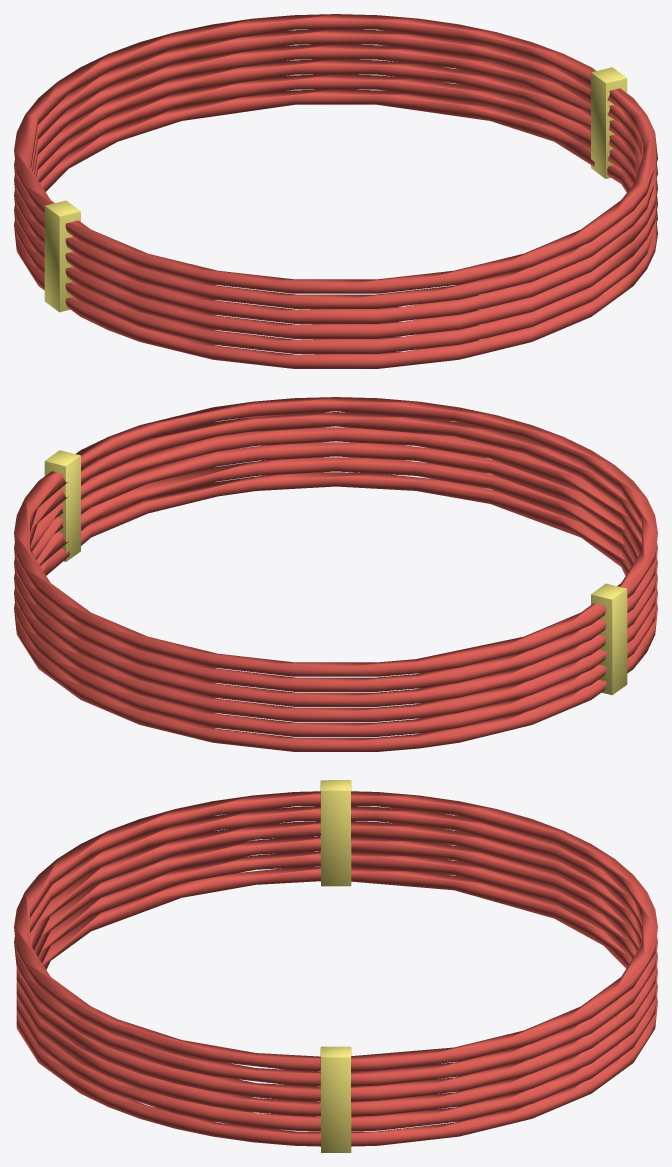
File: HID-AGF-007_lod1.glb
3 views of the same model, one above another, from view 1: azimuth 30°, elevation 25°; view 2: azimuth 150°, elevation 25°; view 3: azimuth 270°, elevation 25° (orthographic).
Visible parts, largest first — view 1: HID-AGF-007_volta5, HID-AGF-007_volta4, HID-AGF-007_volta1, HID-AGF-007_volta2, HID-AGF-007_volta3, HID-AGF-007_volta0, HID-AGF-007_cinta3.141592653589793, HID-AGF-007_cinta0; view 2: HID-AGF-007_volta5, HID-AGF-007_volta4, HID-AGF-007_volta3, HID-AGF-007_volta2, HID-AGF-007_volta1, HID-AGF-007_volta0, HID-AGF-007_cinta3.141592653589793, HID-AGF-007_cinta0; view 3: HID-AGF-007_volta5, HID-AGF-007_volta3, HID-AGF-007_volta4, HID-AGF-007_volta2, HID-AGF-007_volta1, HID-AGF-007_volta0, HID-AGF-007_cinta0, HID-AGF-007_cinta3.141592653589793.
Boxes of the visible parts, box(x1,y1,x2,y2) form: HID-AGF-007_volta5: box(14, 14, 657, 293); HID-AGF-007_volta4: box(14, 29, 657, 308); HID-AGF-007_volta1: box(14, 74, 657, 353); HID-AGF-007_volta2: box(14, 59, 657, 338); HID-AGF-007_volta3: box(14, 44, 657, 323); HID-AGF-007_volta0: box(14, 89, 657, 368); HID-AGF-007_cinta3.141592653589793: box(44, 200, 80, 312); HID-AGF-007_cinta0: box(591, 67, 627, 178); HID-AGF-007_volta5: box(14, 397, 657, 676); HID-AGF-007_volta4: box(14, 412, 657, 691); HID-AGF-007_volta3: box(14, 427, 657, 706); HID-AGF-007_volta2: box(14, 442, 657, 721); HID-AGF-007_volta1: box(14, 457, 657, 736); HID-AGF-007_volta0: box(14, 472, 657, 751); HID-AGF-007_cinta3.141592653589793: box(591, 583, 627, 695); HID-AGF-007_cinta0: box(44, 450, 80, 561); HID-AGF-007_volta5: box(14, 791, 657, 1071); HID-AGF-007_volta3: box(16, 821, 657, 1101); HID-AGF-007_volta4: box(14, 806, 657, 1086); HID-AGF-007_volta2: box(16, 836, 657, 1116); HID-AGF-007_volta1: box(16, 851, 657, 1131); HID-AGF-007_volta0: box(16, 866, 657, 1146); HID-AGF-007_cinta0: box(320, 1046, 351, 1152); HID-AGF-007_cinta3.141592653589793: box(320, 780, 351, 886).
Size of the model in its own units: 0.6403 by 0.1034 by 0.6289.
